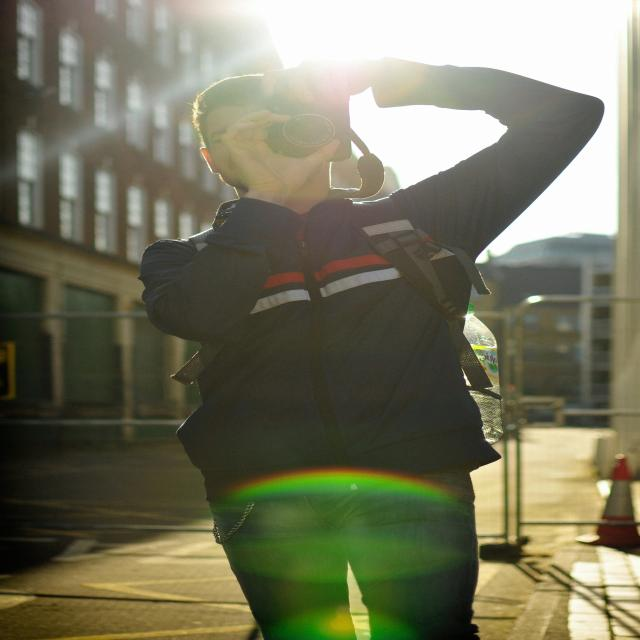adult: (138, 61, 606, 640)
